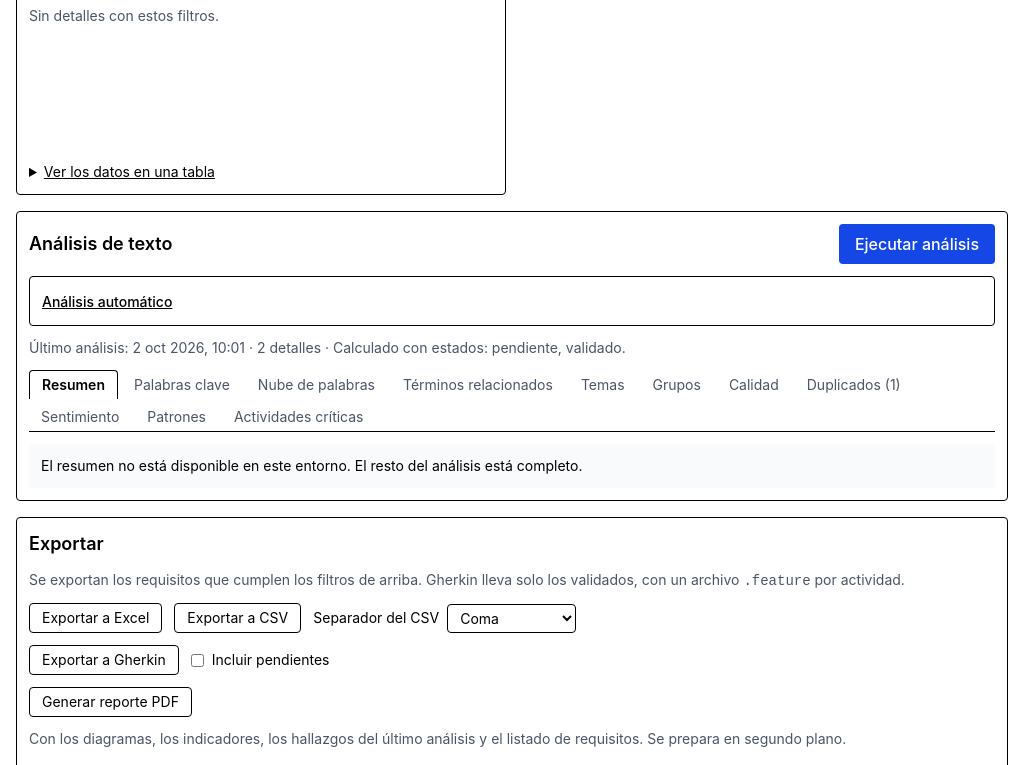
Test case: calidad de los requisitos › ordena por puntaje (menor primero) y explica cada problema
The width and height of the screenshot is (1024, 765).
(page scrolled)
Click the tab "Calidad" at (754, 384), box [717,370,791,399]
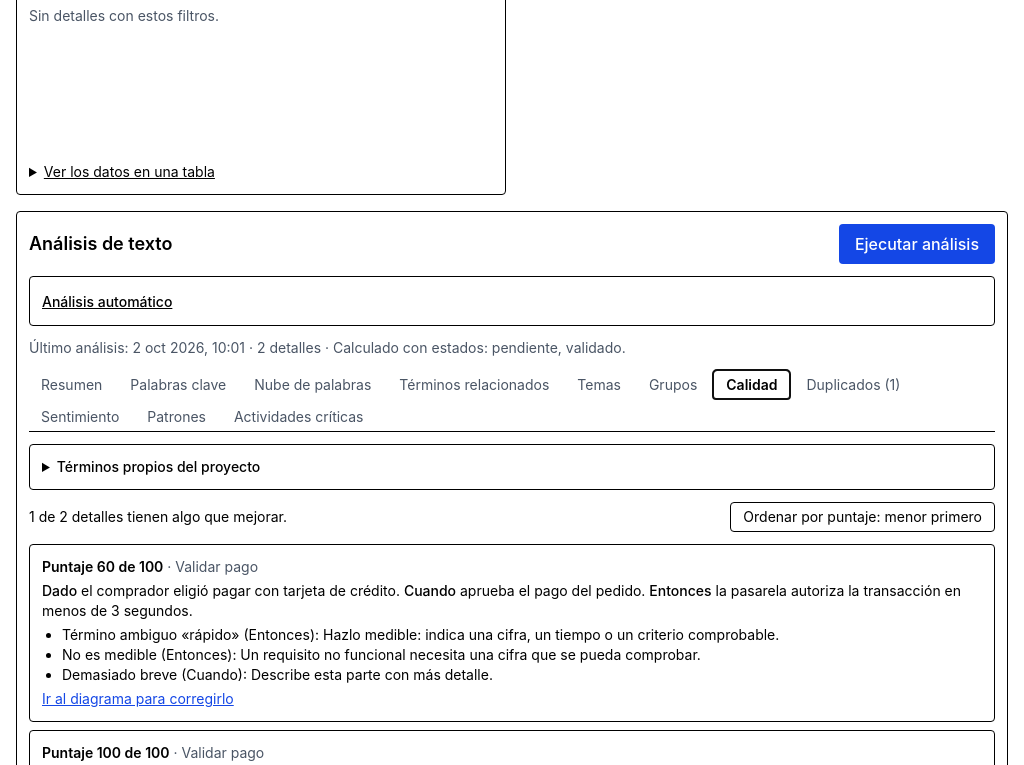
Now the text "1 de 2 detalles tienen algo que mejorar." is shown, box [29,507,287,527]
Now the 1st list item shows "Término ambiguo «rápido» (Entonces): Hazlo medible: indica una cifra, un tiempo o un criterio comprobable.", box [29,544,995,722]
Now the 1st list item shows "No es medible (Entonces)", box [29,544,995,722]
Click the button "Ordenar por puntaje: menor primero" at (863, 517), box [730,502,995,532]
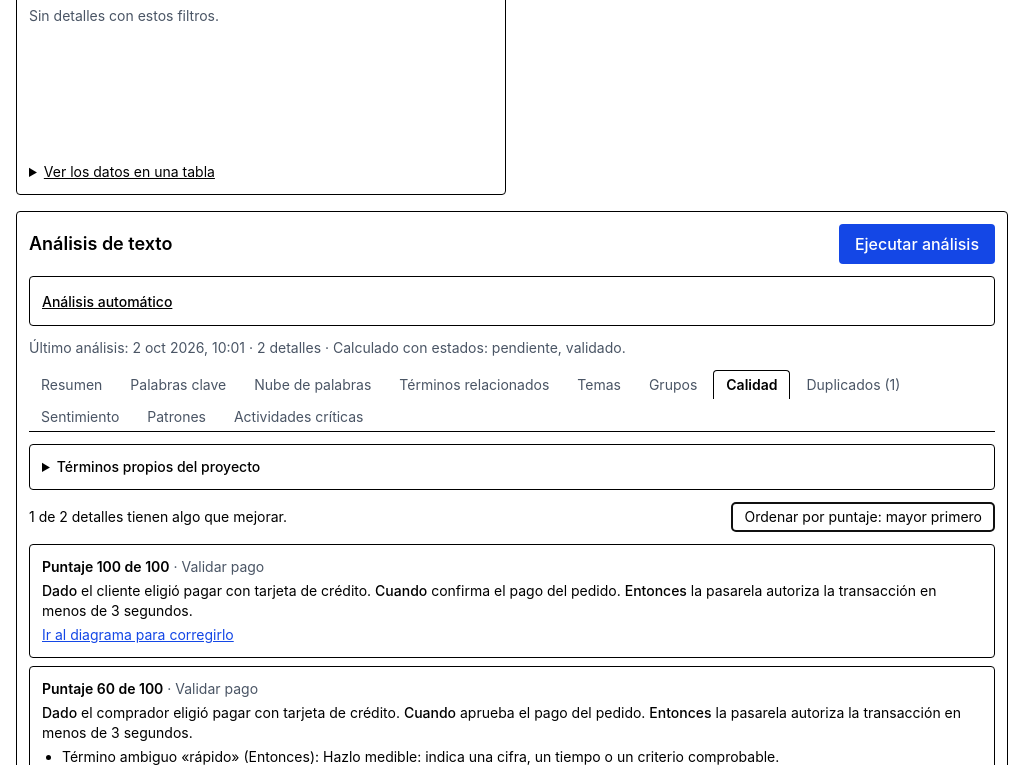
Now the list item that starts with "Puntaje" shows "Puntaje 100 de 100", box [29,544,995,658]
Now the button "Ordenar por puntaje: mayor primero" is shown, box [732,502,995,532]
